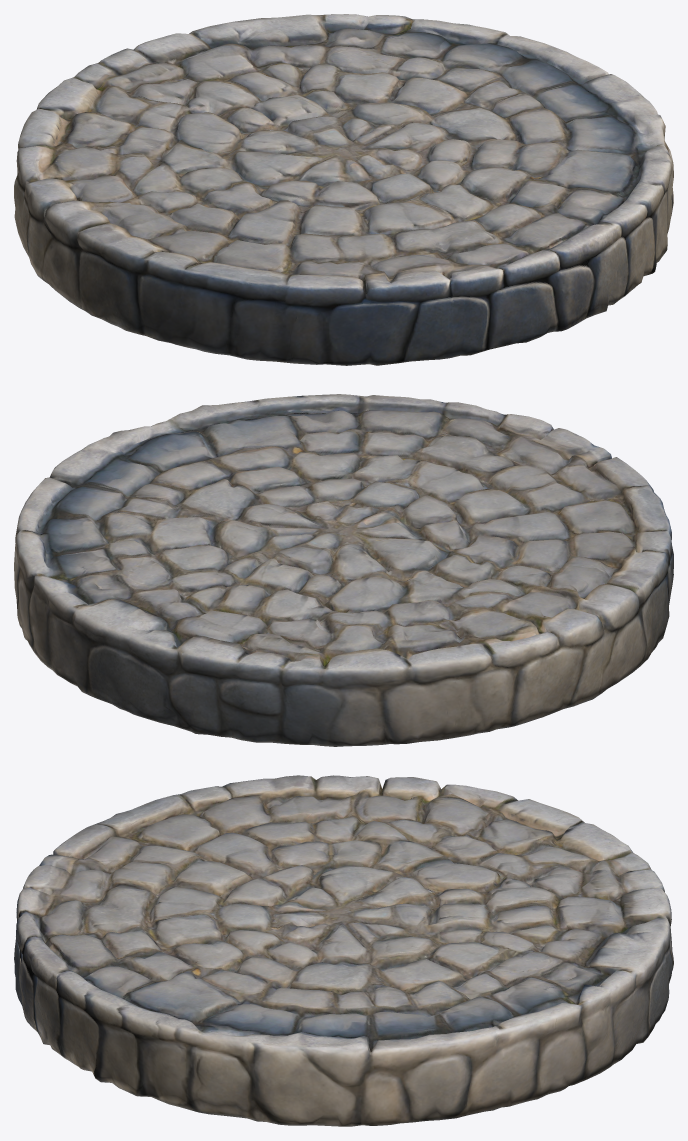
File: circle_platfrom_cobblestone_textured.glb
3 renders of one model, top to bottom at view 1: azimuth 30°, elevation 25°; view 2: azimuth 150°, elevation 25°; view 3: azimuth 270°, elevation 25°, orthographic.
Parts seen in each view (by area): view 1: Mesh1_Material.001_0; view 2: Mesh1_Material.001_0; view 3: Mesh1_Material.001_0.
Part boxes in pixels (bbox=[...]): Mesh1_Material.001_0: bbox=[14, 14, 673, 365]; Mesh1_Material.001_0: bbox=[14, 394, 673, 746]; Mesh1_Material.001_0: bbox=[14, 775, 673, 1126].
Bounding box in the file's own units: 1.99 × 0.2732 × 2.
1 material, 1 textured.
